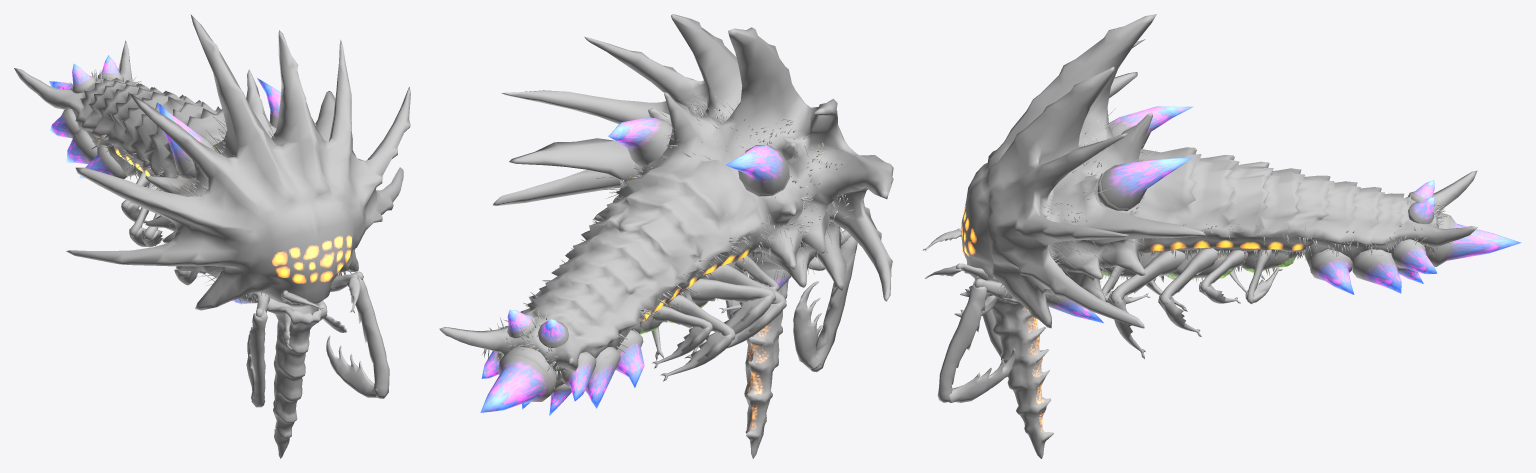
The model's file is Spaceship.fbx.
3 renders of one model, left to right at view 1: azimuth 30°, elevation 25°; view 2: azimuth 150°, elevation 25°; view 3: azimuth 270°, elevation 25°, orthographic. The views are drawn at different scales.
Visible parts, largest first — view 1: body_Low.001_Material_0; view 2: body_Low.001_Material_0; view 3: body_Low.001_Material_0.
Boxes of the visible parts, x1,y1,x2,y2 form: body_Low.001_Material_0: [14, 14, 410, 458]; body_Low.001_Material_0: [439, 14, 893, 458]; body_Low.001_Material_0: [922, 14, 1521, 458].
Bounding box in the file's own units: 1084 × 1273 × 1617.
